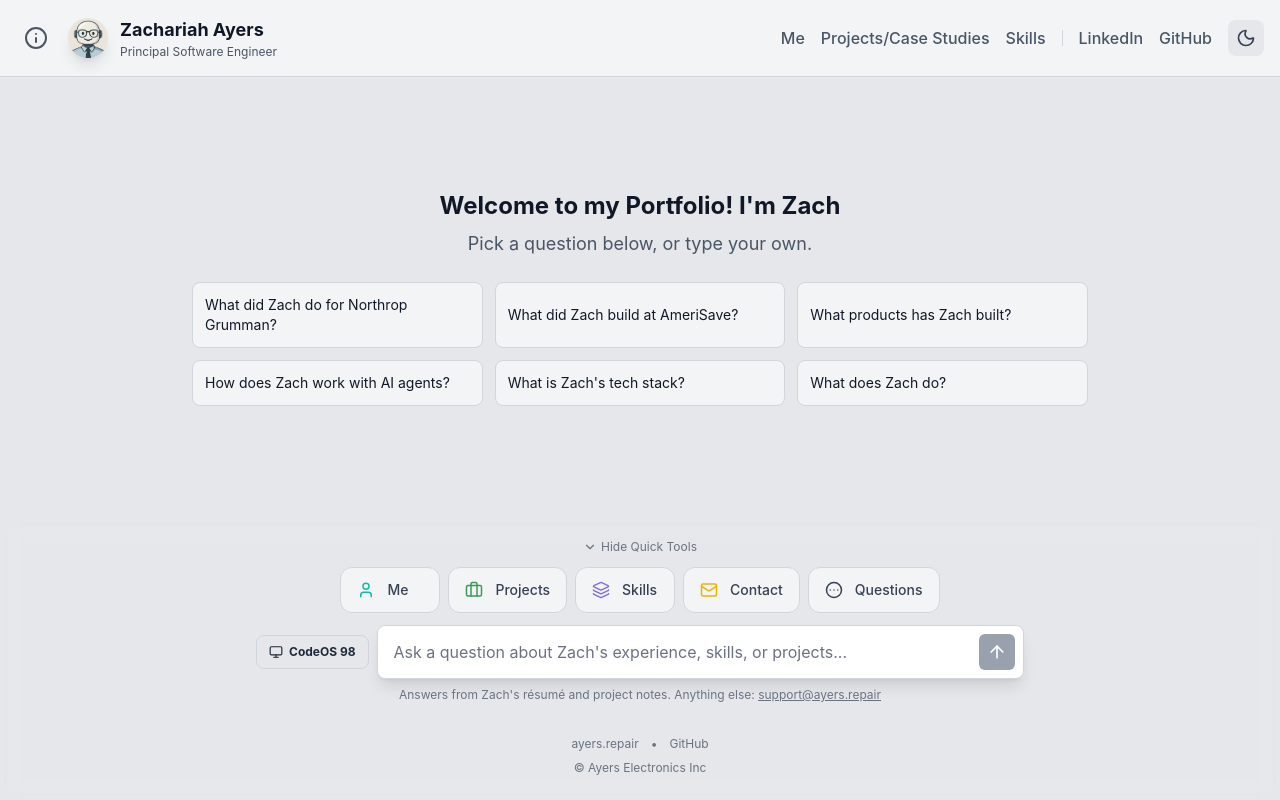
ChatPage › falls back to the suggested questions when nothing matches
In the text box named "Chat message": (682,652) x1=386 y1=640 x2=979 y2=664, type "qwerty asdf"
Then press Enter
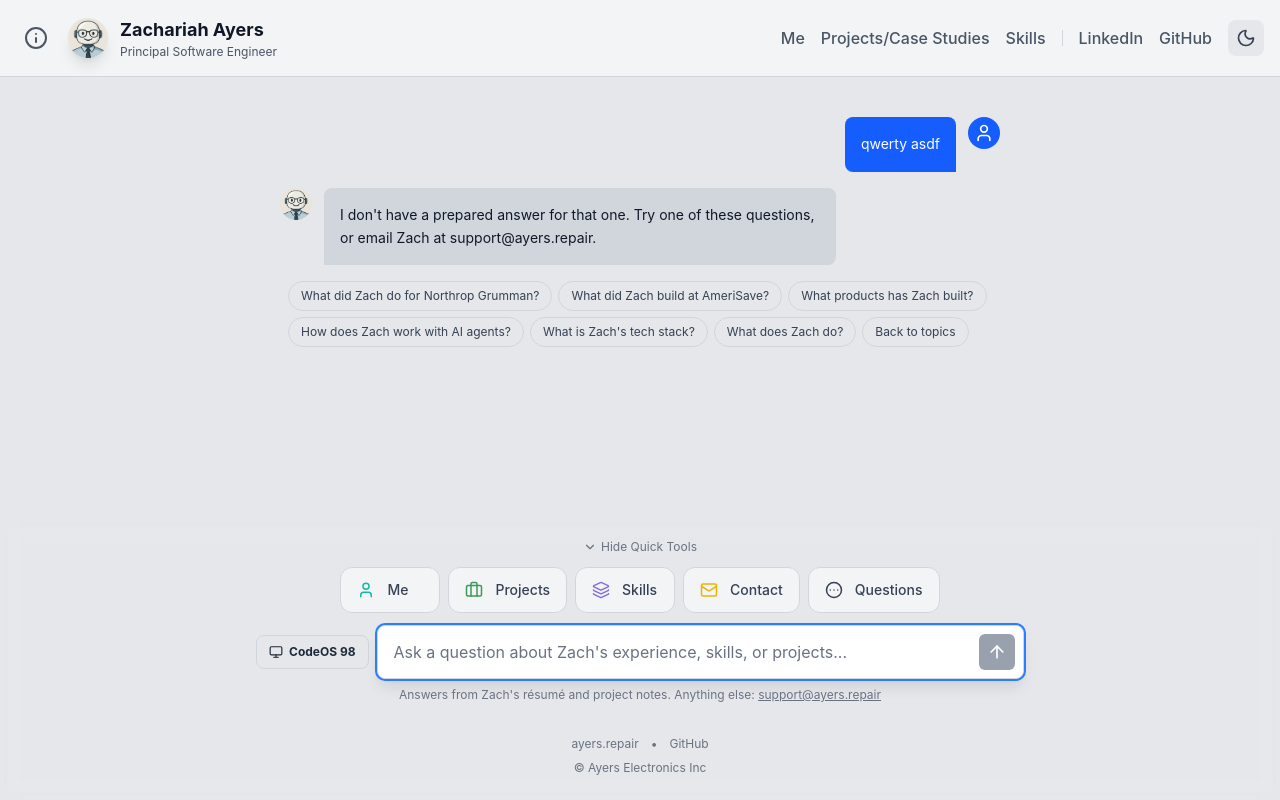
Expected: the button "What did Zach do for Northrop Grumman?" is shown, x1=288 y1=281 x2=552 y2=311
Now the text "I don't have a prepared answer for that one. Try one of these questions, or email Zach at support@ayers.repair." is shown, box x1=340 y1=206 x2=814 y2=246
